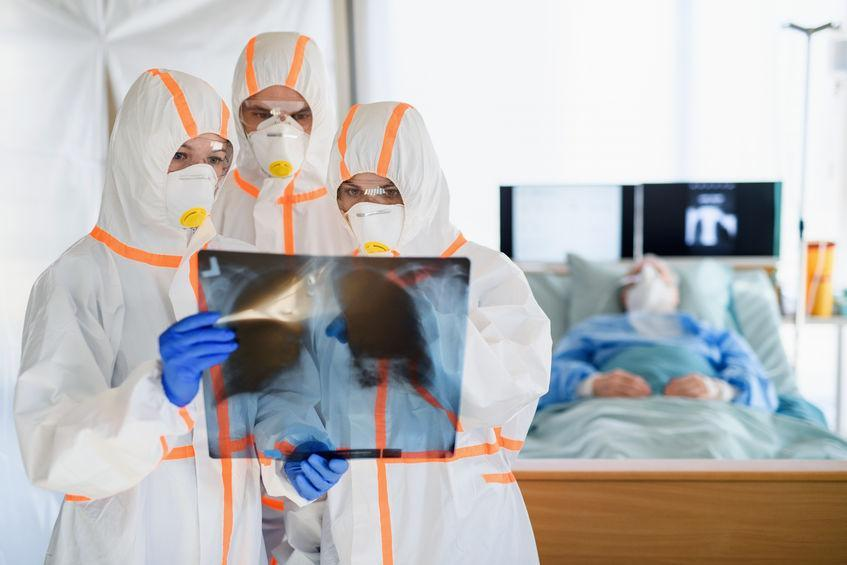Gloves: (157, 310, 235, 406), (284, 435, 348, 501)
Goggles: (239, 98, 311, 133), (336, 175, 405, 211), (172, 135, 231, 176)
No gloves: (657, 362, 723, 402), (593, 363, 651, 398)
